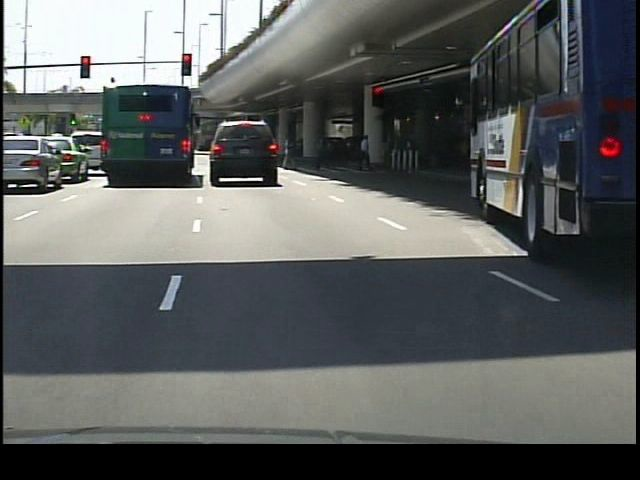person: (310, 128, 332, 174), (353, 132, 373, 171), (279, 130, 297, 173)
